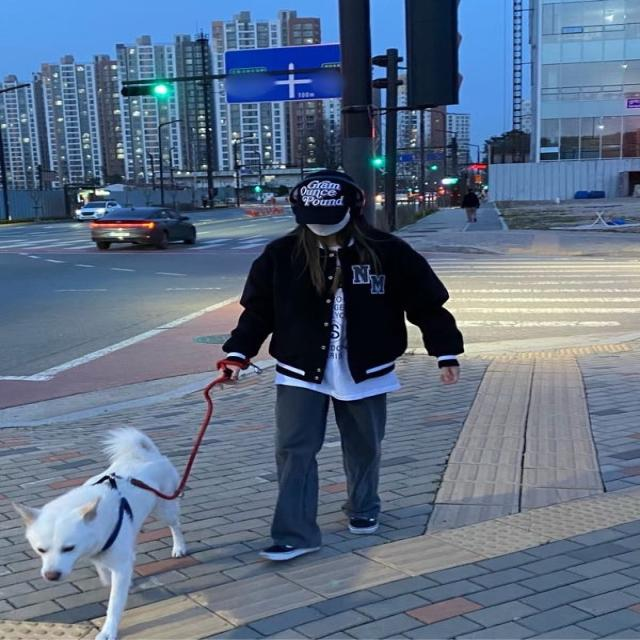denimpants: (268, 378, 384, 542)
jacket: (227, 226, 469, 382)
